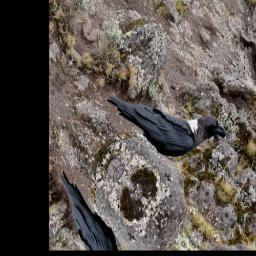Crow: (103, 37, 229, 196)
